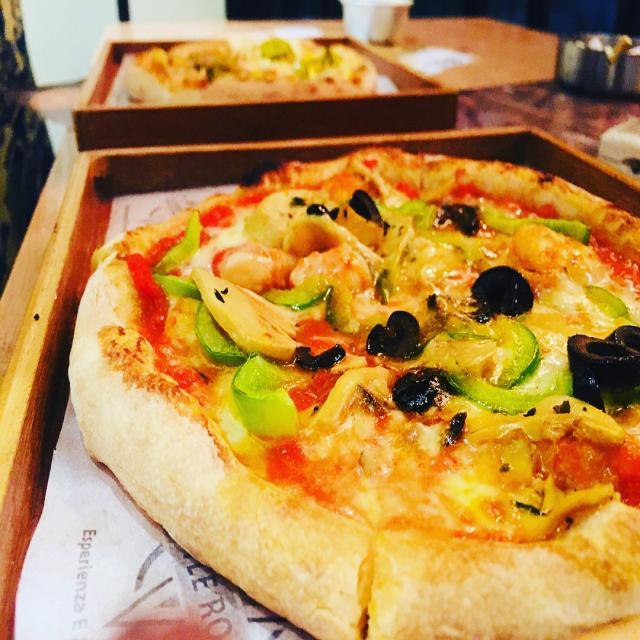black_olives: (566, 332, 640, 383), (471, 265, 536, 318), (365, 308, 421, 352), (393, 369, 445, 407), (571, 362, 608, 411), (444, 199, 482, 243), (293, 343, 347, 372), (350, 186, 384, 231), (607, 325, 640, 356), (447, 414, 467, 447), (306, 200, 336, 217)
pizza: (68, 142, 640, 640), (122, 36, 380, 106)
